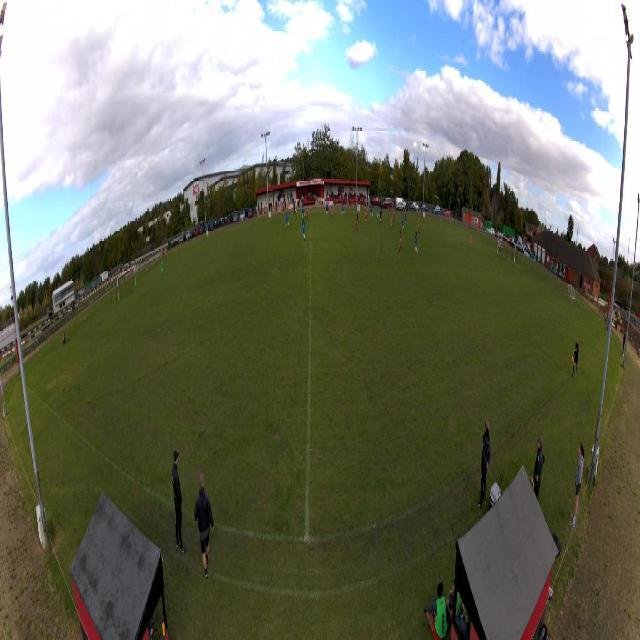ball: (327, 213, 328, 214)
player: (354, 212, 359, 232), (302, 217, 306, 241), (414, 230, 418, 254), (285, 211, 290, 230), (398, 231, 402, 252), (364, 208, 368, 226), (390, 213, 394, 230), (370, 203, 374, 219), (331, 203, 335, 218), (161, 259, 164, 278), (302, 204, 306, 218), (306, 205, 310, 219), (376, 205, 380, 219), (401, 213, 404, 231), (418, 217, 421, 235), (380, 208, 383, 225), (342, 203, 346, 215), (404, 211, 407, 227), (328, 202, 331, 216), (470, 232, 472, 249), (394, 207, 396, 223), (326, 202, 328, 214), (388, 205, 390, 217)
